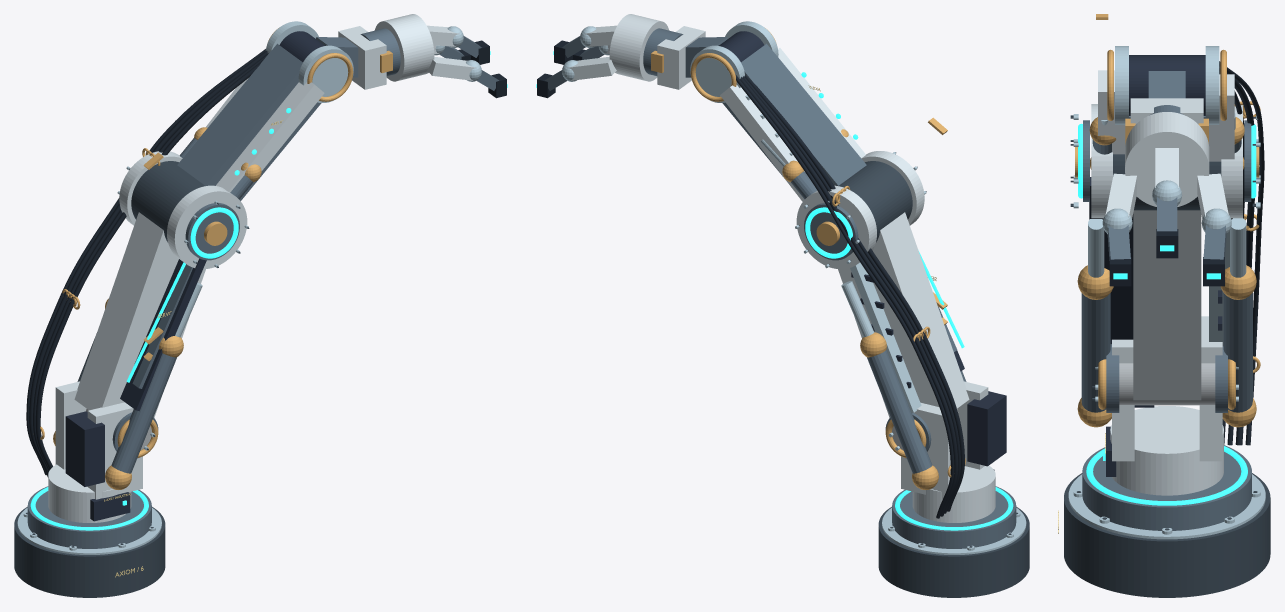
File: AXIOM-6-Industrial-Robotic-Arm.glb
3 renders of one model, left to right at view 1: azimuth 30°, elevation 25°; view 2: azimuth 150°, elevation 25°; view 3: azimuth 270°, elevation 25°, orthographic. The views are drawn at different scales.
Visible parts, largest first — view 1: 03 | tapered ceramic upper arm chassis, 05 | forged forearm inner chassis, 01 | heavyweight anti-vibration base, 01 | yaw index dial, 05 | upper smart armor, 04 | elbow rotor main, 04 | ceramic joint cover.001, 02 | shoulder rear cover, 08 | primary hydraulic reservoir.001, 07 | gripper palm motor, 09 | servo CANBUS braided line 0, 01 | shoulder riser (+18 smaller); view 2: 03 | tapered ceramic upper arm chassis, 01 | heavyweight anti-vibration base, 05 | forged forearm inner chassis, 01 | yaw index dial, 01 | shoulder riser, 04 | elbow rotor main, 08 | primary hydraulic reservoir, 02 | shoulder rear cover, 04 | ceramic joint cover, 09 | servo CANBUS braided line 2, 07 | gripper palm motor, 09 | servo CANBUS braided line 3 (+18 smaller); view 3: 01 | heavyweight anti-vibration base, 03 | tapered ceramic upper arm chassis, 01 | shoulder riser, 01 | yaw index dial, 07 | gripper palm motor, 08 | primary hydraulic reservoir.001, 08 | primary hydraulic reservoir, 01 | base chrome chamfer, 06 | wrist roll coupling, 02 | cast shoulder yoke, 03 | recessed carbon fiber dorsal keel, 09 | servo CANBUS braided line 3 (+45 smaller).
Part boxes in pixels (bbox=[...]): 03 | tapered ceramic upper arm chassis: bbox=[74, 212, 205, 417]; 05 | forged forearm inner chassis: bbox=[177, 43, 321, 200]; 01 | heavyweight anti-vibration base: bbox=[14, 507, 165, 597]; 01 | yaw index dial: bbox=[27, 486, 151, 548]; 05 | upper smart armor: bbox=[216, 81, 324, 192]; 04 | elbow rotor main: bbox=[131, 161, 205, 242]; 04 | ceramic joint cover.001: bbox=[167, 185, 247, 269]; 02 | shoulder rear cover: bbox=[65, 411, 104, 486]; 08 | primary hydraulic reservoir.001: bbox=[111, 353, 176, 473]; 07 | gripper palm motor: bbox=[374, 14, 434, 81]; 09 | servo CANBUS braided line 0: bbox=[35, 60, 263, 470]; 01 | shoulder riser: bbox=[48, 464, 131, 522]; 03 | tapered ceramic upper arm chassis: bbox=[838, 212, 969, 417]; 01 | heavyweight anti-vibration base: bbox=[878, 507, 1029, 597]; 05 | forged forearm inner chassis: bbox=[722, 43, 866, 185]; 01 | yaw index dial: bbox=[892, 486, 1016, 548]; 01 | shoulder riser: bbox=[912, 465, 995, 522]; 04 | elbow rotor main: bbox=[838, 161, 912, 242]; 08 | primary hydraulic reservoir: bbox=[867, 350, 932, 473]; 02 | shoulder rear cover: bbox=[967, 391, 1006, 466]; 04 | ceramic joint cover: bbox=[796, 185, 876, 269]; 09 | servo CANBUS braided line 2: bbox=[740, 77, 958, 516]; 07 | gripper palm motor: bbox=[609, 14, 669, 81]; 09 | servo CANBUS braided line 3: bbox=[727, 69, 954, 518]; 01 | heavyweight anti-vibration base: bbox=[1064, 473, 1270, 597]; 03 | tapered ceramic upper arm chassis: bbox=[1133, 210, 1201, 400]; 01 | shoulder riser: bbox=[1110, 406, 1223, 495]; 01 | yaw index dial: bbox=[1082, 445, 1251, 530]; 07 | gripper palm motor: bbox=[1125, 112, 1209, 206]; 08 | primary hydraulic reservoir.001: bbox=[1081, 293, 1110, 412]; 08 | primary hydraulic reservoir: bbox=[1223, 293, 1252, 412]; 01 | base chrome chamfer: bbox=[1068, 474, 1265, 539]; 06 | wrist roll coupling: bbox=[1129, 55, 1205, 115]; 02 | cast shoulder yoke: bbox=[1199, 316, 1222, 461]; 03 | recessed carbon fiber dorsal keel: bbox=[1089, 177, 1133, 339]; 09 | servo CANBUS braided line 3: bbox=[1219, 61, 1264, 445].
Size of the model in its own units: 1.7 by 1.67 by 0.4925.
